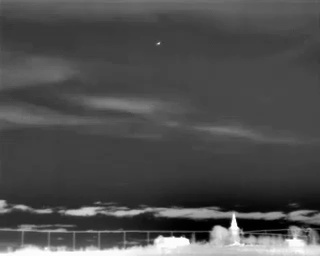AIRPLANE: (154, 39, 163, 48)
